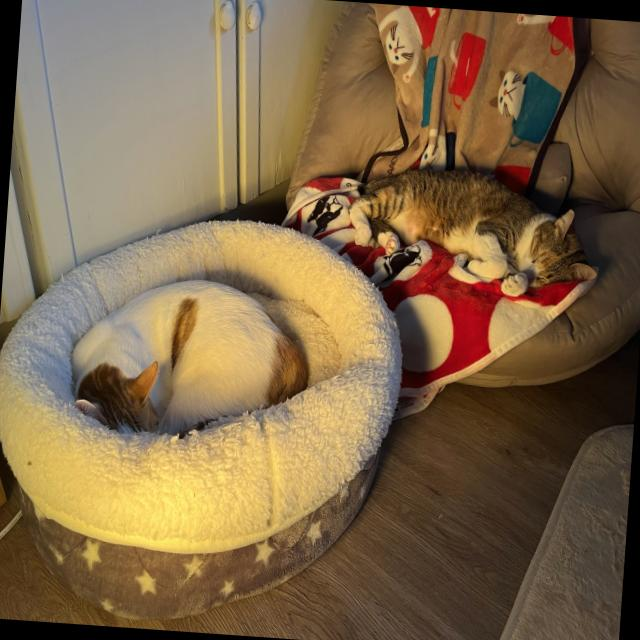cat1: (62, 268, 313, 452)
cat2: (343, 158, 607, 304)
